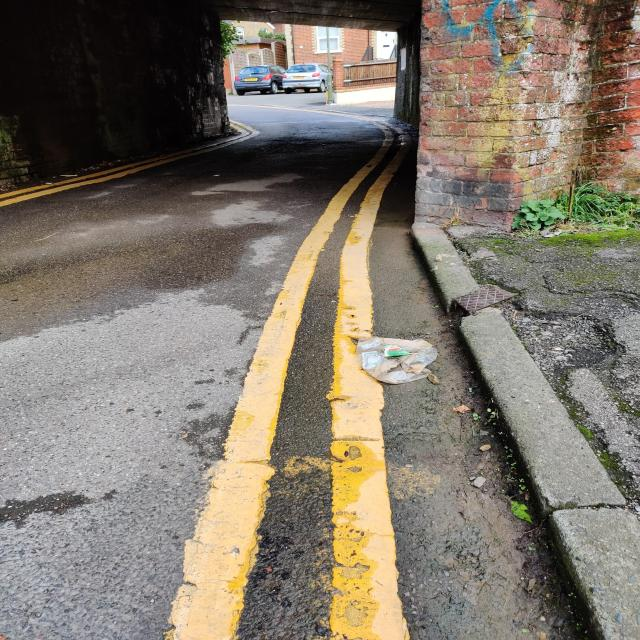litter: (359, 337, 437, 381)
